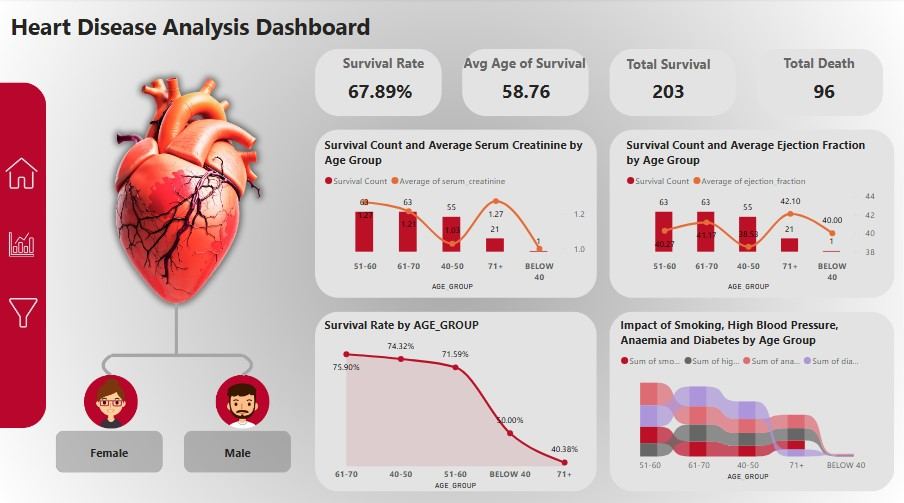

This screenshot's page, from the dashboard's own definition file:
{"tool":"powerbi","page":{"name":"Page 1","canvas":[1280,720],"ordinal":0},"visuals":[{"type":"textbox","box":[10.1,13.4,535.9,60.5],"z":0},{"type":"card","fields":{"Values":["heart_Disease_clinical_records_.Survival Rate"]},"box":[436.5,62.4,204.1,140.3],"z":1000},{"type":"card","fields":{"Values":["heart_Disease_clinical_records_.Average of Survival"]},"box":[639.2,62.4,212.6,140.3],"z":2000},{"type":"card","fields":{"Values":["heart_Disease_clinical_records_.Total Survivour"]},"box":[851.8,62.4,191.3,140.3],"z":3000},{"type":"card","fields":{"Values":["heart_Disease_clinical_records_.Total Death"]},"box":[1068.7,68,198.4,129],"z":4000},{"type":"textbox","box":[470.6,73.7,148.8,38.3],"z":5000},{"type":"textbox","box":[652,73.7,199.8,39.7],"z":6000},{"type":"textbox","box":[883,75.1,150.2,38.3],"z":7000},{"type":"textbox","box":[1105.9,73.4,125.3,40.3],"z":8000},{"type":"lineClusteredColumnComboChart","title":"Survival Count and Average Serum Creatinine by Age Group","fields":{"Category":["heart_Disease_clinical_records_.AGE_GROUP"],"Y":["CountNonNull(heart_Disease_clinical_records_.DEATH_EVENT)"],"Y2":["Avg(heart_Disease_clinical_records_.serum_creatinine)"]},"box":[455,197,381.3,222.5],"z":9000},{"type":"lineClusteredColumnComboChart","title":"Survival Count and Average Ejection Fraction by Age Group","fields":{"Category":["heart_Disease_clinical_records_.AGE_GROUP"],"Y":["CountNonNull(heart_Disease_clinical_records_.DEATH_EVENT)"],"Y2":["Avg(heart_Disease_clinical_records_.ejection_fraction)"]},"box":[883,197,362.8,222.5],"z":10000},{"type":"lineChart","fields":{"Category":["heart_Disease_clinical_records_.AGE_GROUP"],"Y":["heart_Disease_clinical_records_.Survival Rate"]},"box":[455,452.1,381.3,249.4],"z":11000},{"type":"ribbonChart","title":"Impact of Smoking, High Blood Pressure, Anaemia and Diabetes by Age Group","fields":{"Category":["heart_Disease_clinical_records_.AGE_GROUP"],"Y":["Sum(heart_Disease_clinical_records_.smoking)","Sum(heart_Disease_clinical_records_.high_blood_pressure)","Sum(heart_Disease_clinical_records_.anaemia)","Sum(heart_Disease_clinical_records_.diabetes)"]},"box":[874.5,452.1,371.3,236.7],"z":12000},{"type":"advancedSlicerVisual","fields":{"Values":["heart_Disease_clinical_records_.Gender"]},"box":[73.7,608,345.8,70.9],"z":13000}]}

Visuals, with their boxes in screenshot pixels (x1, y1, x2, y2), scaled from the page's 1280x720 canvas onto the 904x503 screenshot:
textbox: x1=7, y1=9, x2=386, y2=52
card - heart_Disease_clinical_records_.Survival Rate: x1=308, y1=44, x2=452, y2=142
card - heart_Disease_clinical_records_.Average of Survival: x1=451, y1=44, x2=602, y2=142
card - heart_Disease_clinical_records_.Total Survivour: x1=602, y1=44, x2=737, y2=142
card - heart_Disease_clinical_records_.Total Death: x1=755, y1=48, x2=895, y2=138
textbox: x1=332, y1=51, x2=437, y2=78
textbox: x1=460, y1=51, x2=602, y2=79
textbox: x1=624, y1=52, x2=730, y2=79
textbox: x1=781, y1=51, x2=870, y2=79
"Survival Count and Average Serum Creatinine by Age Group" lineClusteredColumnComboChart: x1=321, y1=138, x2=591, y2=293
"Survival Count and Average Ejection Fraction by Age Group" lineClusteredColumnComboChart: x1=624, y1=138, x2=880, y2=293
lineChart - heart_Disease_clinical_records_.AGE_GROUP x heart_Disease_clinical_records_.Survival Rate: x1=321, y1=316, x2=591, y2=490
"Impact of Smoking, High Blood Pressure, Anaemia and Diabetes by Age Group" ribbonChart: x1=618, y1=316, x2=880, y2=481
advancedSlicerVisual - heart_Disease_clinical_records_.Gender: x1=52, y1=425, x2=296, y2=474
